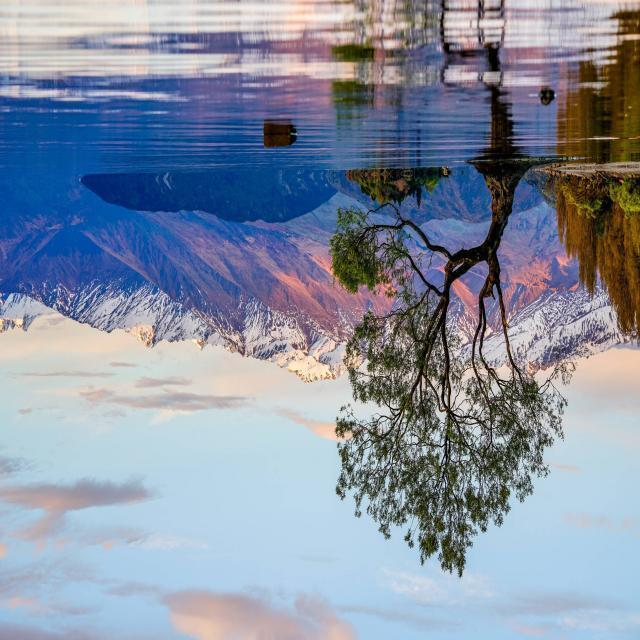tree: (334, 147, 574, 577), (553, 190, 567, 244)
